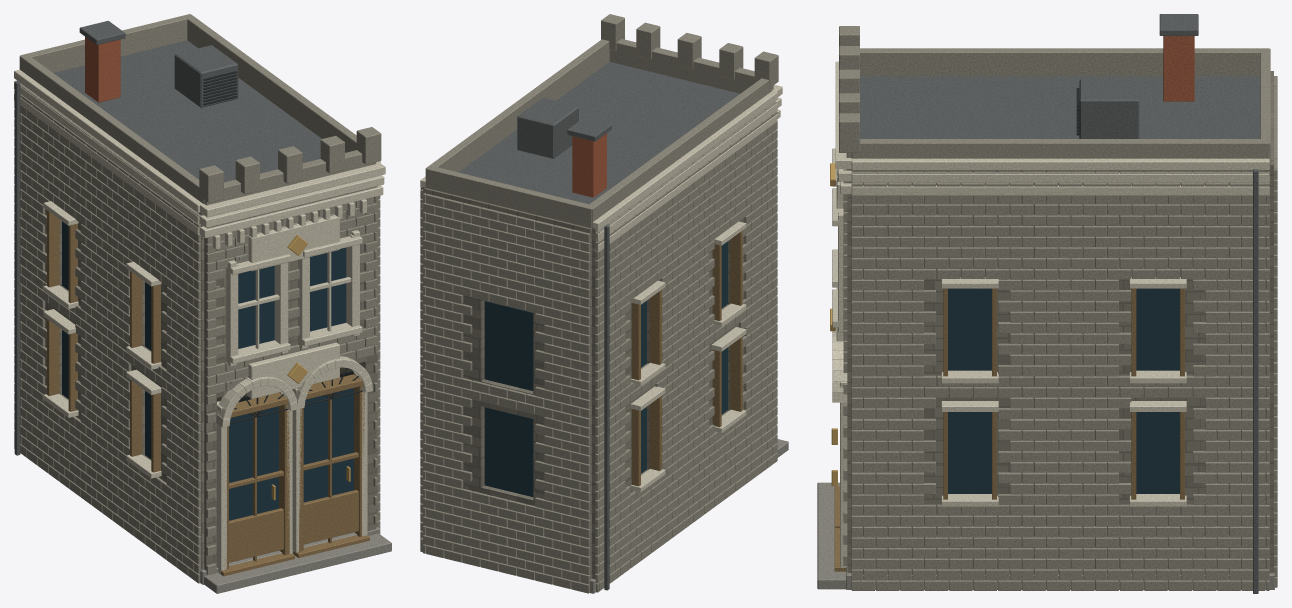
The model's file is CLSTGA21_lod0.glb.
3 views of the same model, side by side, from view 1: azimuth 30°, elevation 25°; view 2: azimuth 150°, elevation 25°; view 3: azimuth 270°, elevation 25° (orthographic). The views are drawn at different scales.
Parts seen in each view (by area): view 1: CLSTGA21_LOD0; view 2: CLSTGA21_LOD0; view 3: CLSTGA21_LOD0.
Part boxes in pixels (x1,y1,x2,y2): CLSTGA21_LOD0: (14, 14, 391, 593); CLSTGA21_LOD0: (420, 14, 788, 593); CLSTGA21_LOD0: (817, 14, 1277, 593).
Bounding box in the file's own units: 3.71 × 7.85 × 6.6.
Materials: 13 (10 with a texture image).
